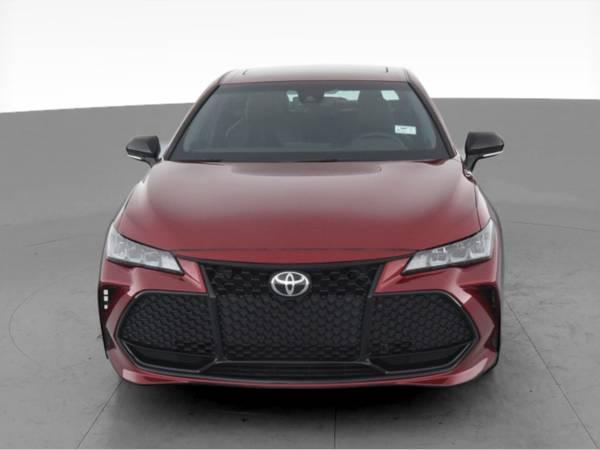Front_Bumper: (371, 254, 502, 384), (98, 254, 205, 379)
Front_Windshield: (165, 82, 454, 165)
Grille: (119, 259, 481, 385)
Hood: (119, 154, 485, 264)
Left_Headlight: (400, 217, 493, 274)
Left_Mirror: (464, 132, 506, 172)
Right_Headlight: (102, 226, 182, 275)
Right_Mirror: (121, 134, 164, 163)
Roof: (216, 63, 415, 87)
